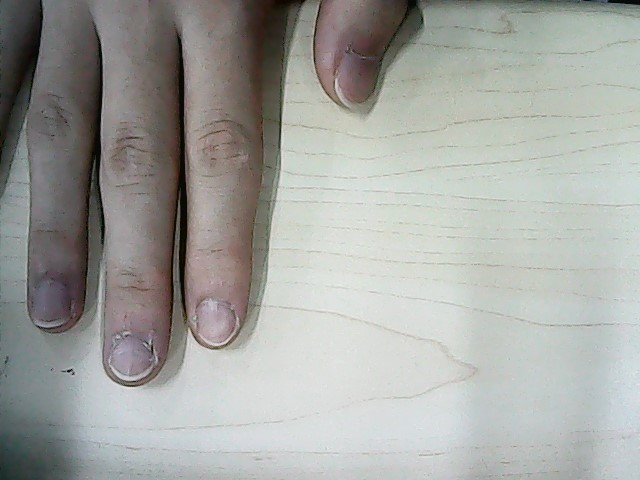nail: (336, 47, 378, 112), (108, 337, 155, 381), (197, 299, 236, 349), (31, 279, 69, 328)
